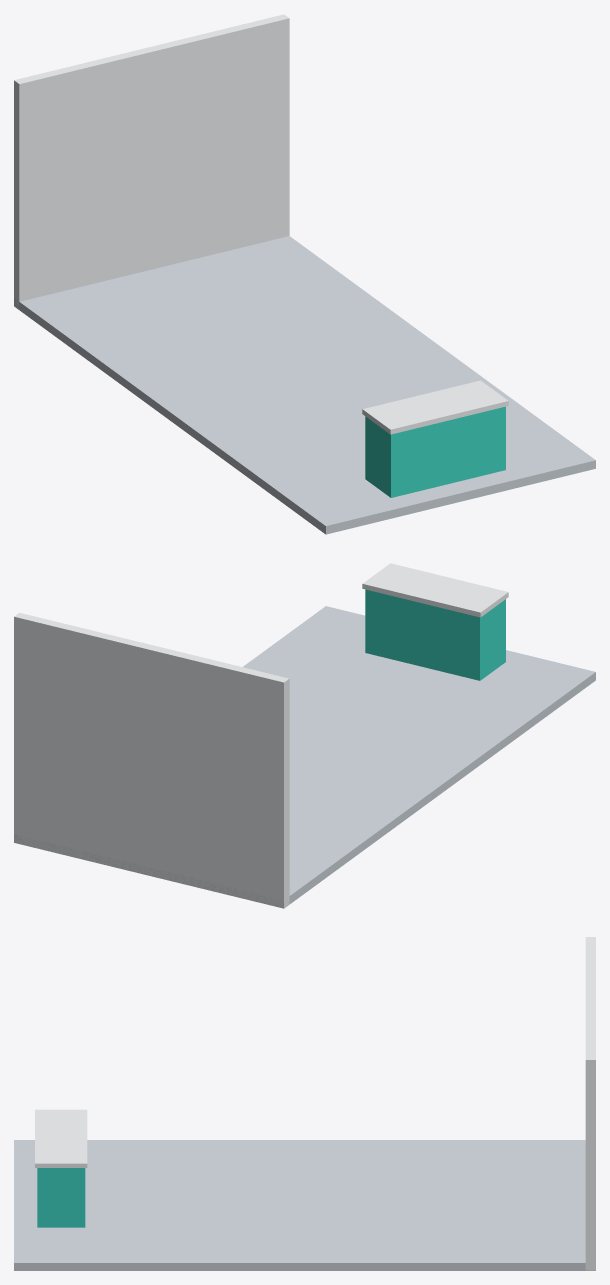
3 renders of one model, top to bottom at view 1: azimuth 30°, elevation 25°; view 2: azimuth 150°, elevation 25°; view 3: azimuth 270°, elevation 25°, orthographic. The views are drawn at different scales.
Parts seen in each view (by area): view 1: Exhibition Booth Concept; view 2: Exhibition Booth Concept; view 3: Exhibition Booth Concept.
Boxes of the visible parts, x1=… form: Exhibition Booth Concept: x1=14, y1=14, x2=595, y2=534; Exhibition Booth Concept: x1=14, y1=563, x2=595, y2=908; Exhibition Booth Concept: x1=14, y1=937, x2=595, y2=1270.
Size of the model in its own units: 4 by 3.2 by 8.
